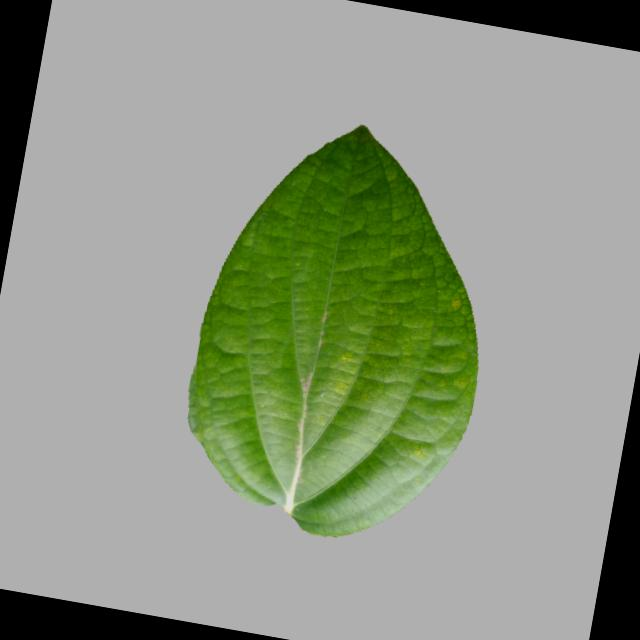healthy: (162, 101, 520, 560)
